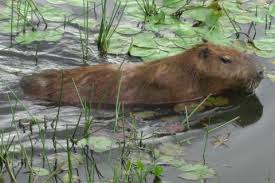capivara: (19, 38, 267, 108)
